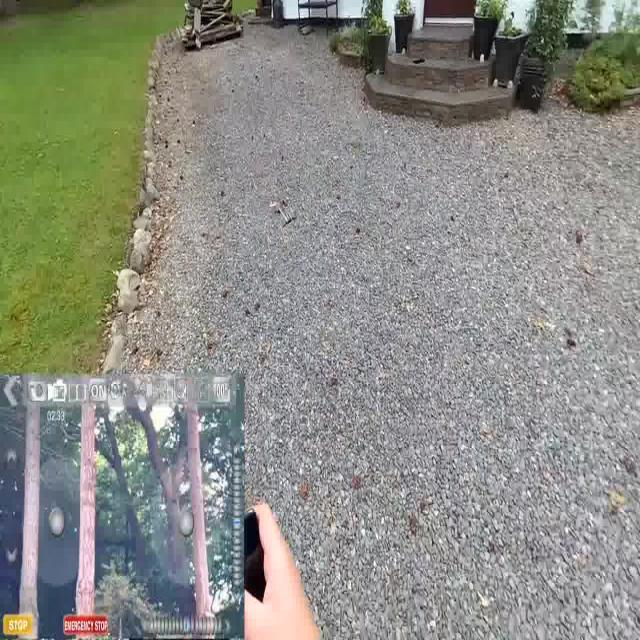drones: (266, 190, 304, 232)
